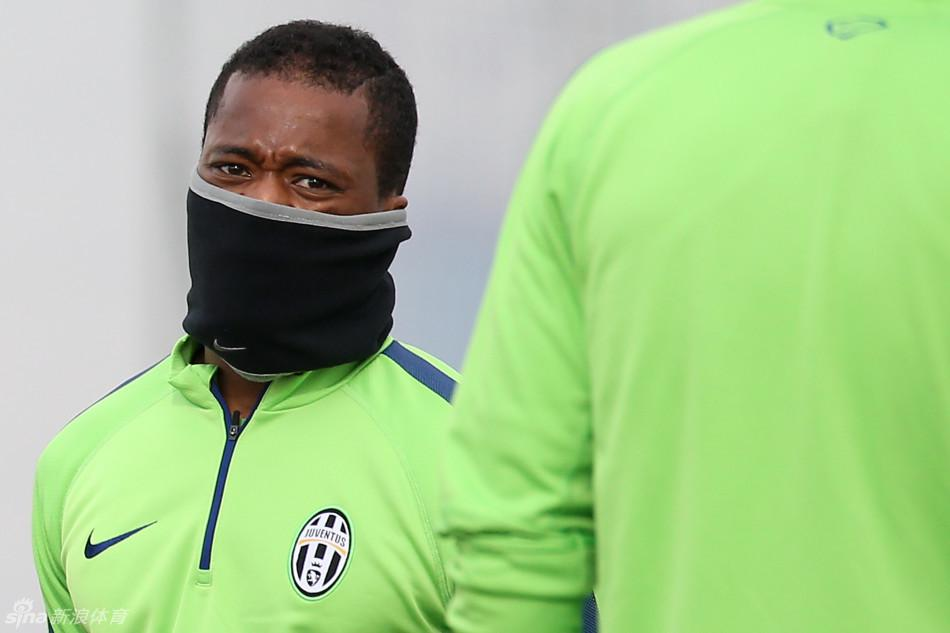OK: (188, 116, 382, 334)
